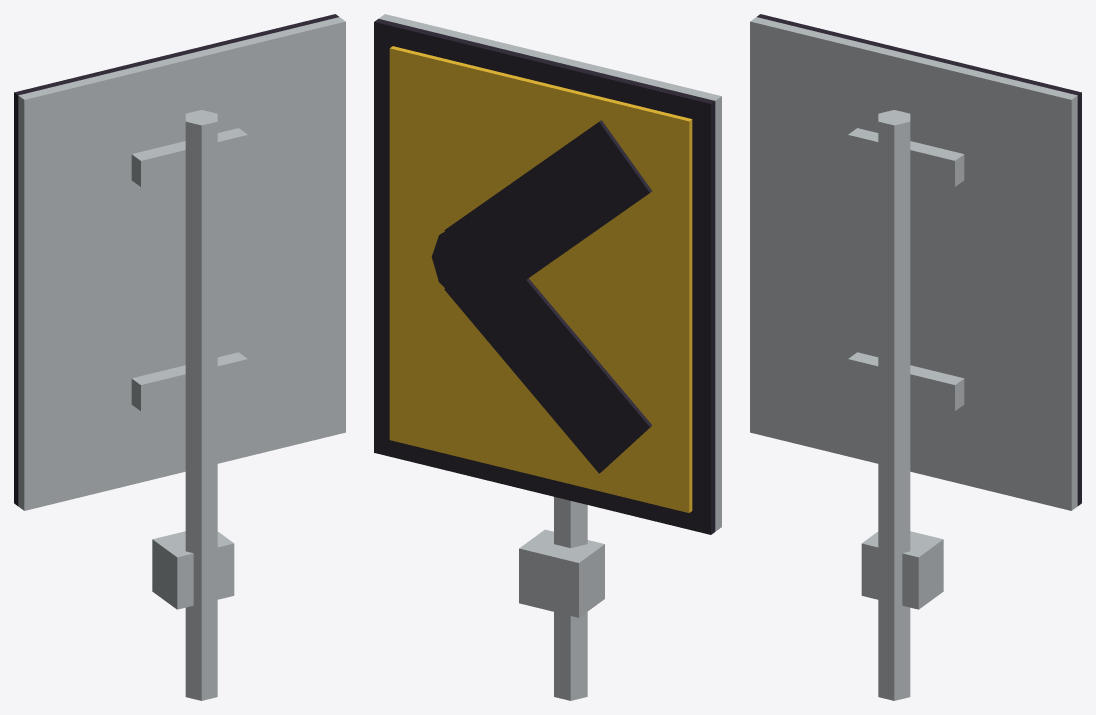
Rendered from corner_chevron_rail_left.glb.
3 renders of one model, left to right at view 1: azimuth 30°, elevation 25°; view 2: azimuth 150°, elevation 25°; view 3: azimuth 330°, elevation 25°, orthographic. The views are drawn at different scales.
Parts seen in each view (by area): view 1: corner_chevron_rail_left; view 2: corner_chevron_rail_left; view 3: corner_chevron_rail_left.
Boxes of the visible parts, x1,y1,x2,y2 form: corner_chevron_rail_left: (14,14,345,700); corner_chevron_rail_left: (374,14,721,700); corner_chevron_rail_left: (750,14,1081,700).
Size of the model in its own units: 0.9 by 1.66 by 0.195.
